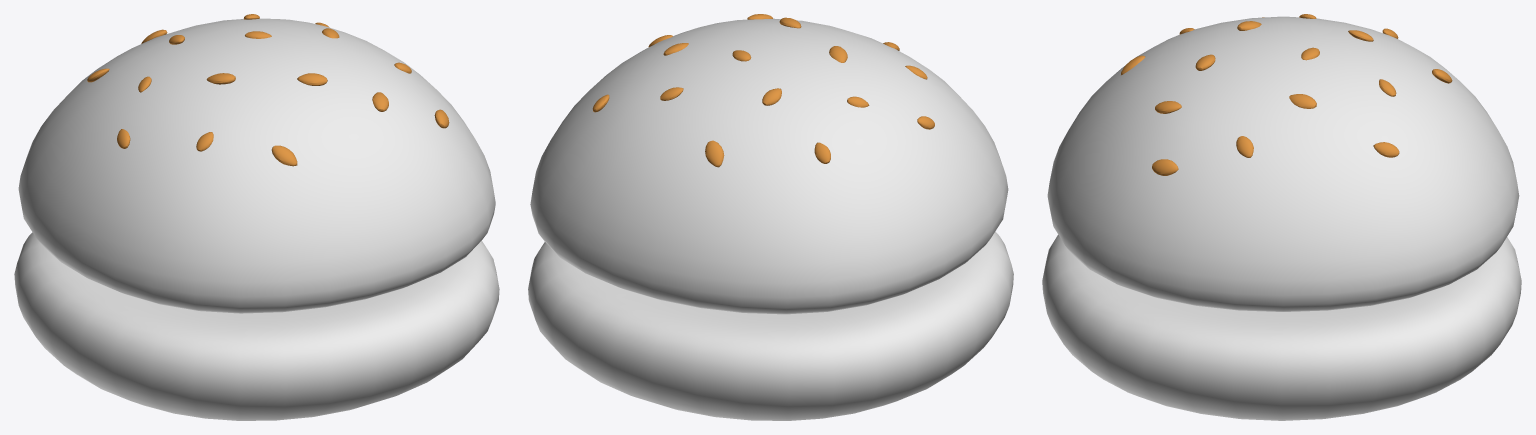
File: Bun.fbx
3 views of the same model, side by side, from view 1: azimuth 30°, elevation 25°; view 2: azimuth 150°, elevation 25°; view 3: azimuth 270°, elevation 25° (orthographic).
Visible parts, largest first — view 1: Sphere.027, Cube.001; view 2: Sphere.027, Cube.001; view 3: Sphere.027, Cube.001.
Boxes of the visible parts, <box> form: Sphere.027: <box>18,14,495,313</box>; Cube.001: <box>14,232,499,420</box>; Sphere.027: <box>530,14,1008,314</box>; Cube.001: <box>528,231,1013,420</box>; Sphere.027: <box>1047,14,1519,311</box>; Cube.001: <box>1042,235,1521,420</box>.
Size of the model in its own units: 88.2 by 65.69 by 88.2.
